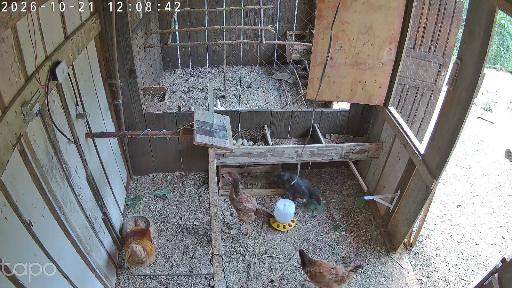galinha: (227, 170, 275, 237), (298, 249, 364, 288), (276, 171, 323, 207)
galo: (124, 218, 156, 269)
ovos: (233, 139, 253, 147)
pato: (214, 99, 225, 110), (188, 105, 195, 111)
